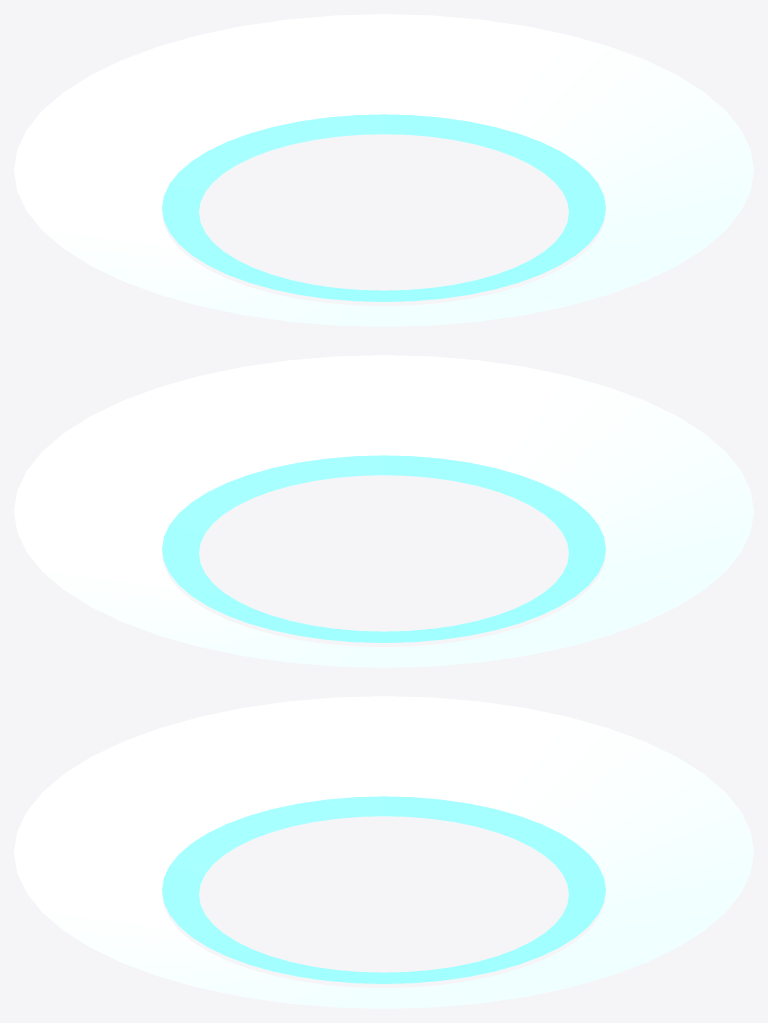
File: fx_shockwave_ring.glb
The picture shows the model from 3 angles, top to bottom: view 1: azimuth 30°, elevation 25°; view 2: azimuth 150°, elevation 25°; view 3: azimuth 270°, elevation 25°; orthographic projection.
Visible parts, largest first — view 1: fx_shockwave_ring_beam, fx_shockwave_ring_glow; view 2: fx_shockwave_ring_beam, fx_shockwave_ring_glow; view 3: fx_shockwave_ring_beam, fx_shockwave_ring_glow.
Boxes of the visible parts, x1,y1,x2,y2 form: fx_shockwave_ring_beam: (14, 14, 753, 326); fx_shockwave_ring_glow: (162, 114, 605, 301); fx_shockwave_ring_beam: (14, 355, 753, 667); fx_shockwave_ring_glow: (162, 455, 605, 642); fx_shockwave_ring_beam: (14, 696, 753, 1008); fx_shockwave_ring_glow: (162, 796, 605, 983).
Size of the model in its own units: 8 by 0.5 by 8.
